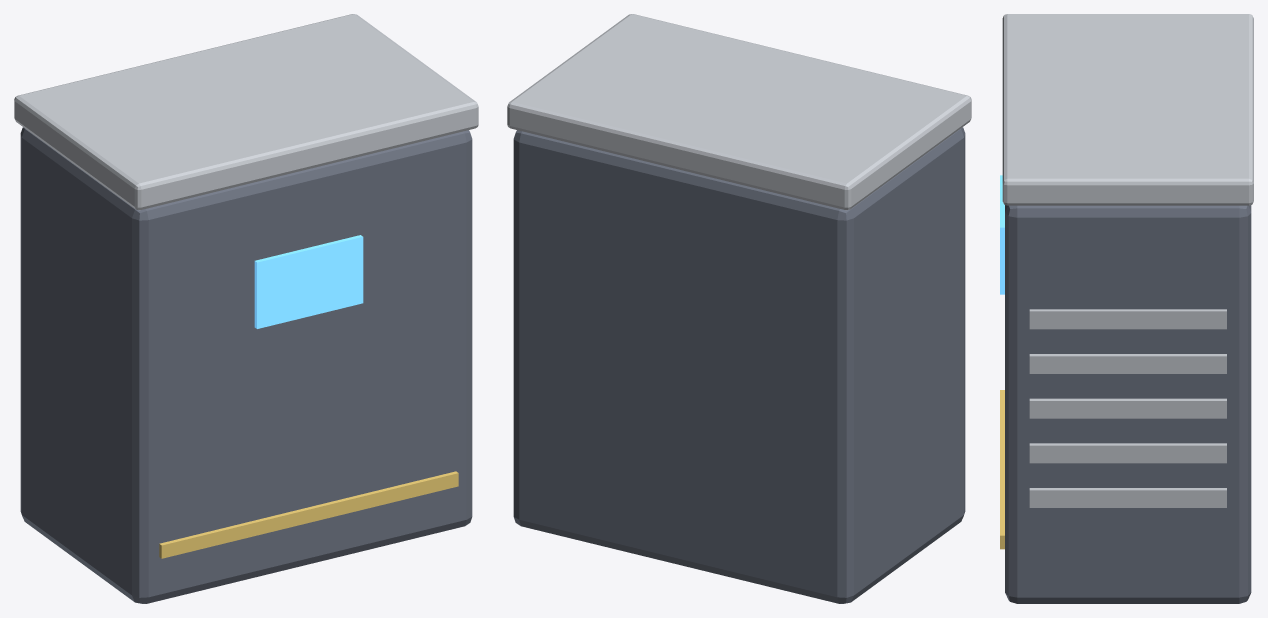
The model's file is battery__battery.fbx.
The picture shows the model from 3 angles, left to right: view 1: azimuth 30°, elevation 25°; view 2: azimuth 150°, elevation 25°; view 3: azimuth 270°, elevation 25°; orthographic projection.
Visible parts, largest first — view 1: battery__battery; view 2: battery__battery; view 3: battery__battery.
Part boxes in pixels (left/top/right/bottom): battery__battery: left=14, top=14, right=478, bottom=603; battery__battery: left=507, top=14, right=971, bottom=603; battery__battery: left=1000, top=14, right=1253, bottom=603.
Size of the model in its own units: 1.63 by 1.92 by 1.03.
